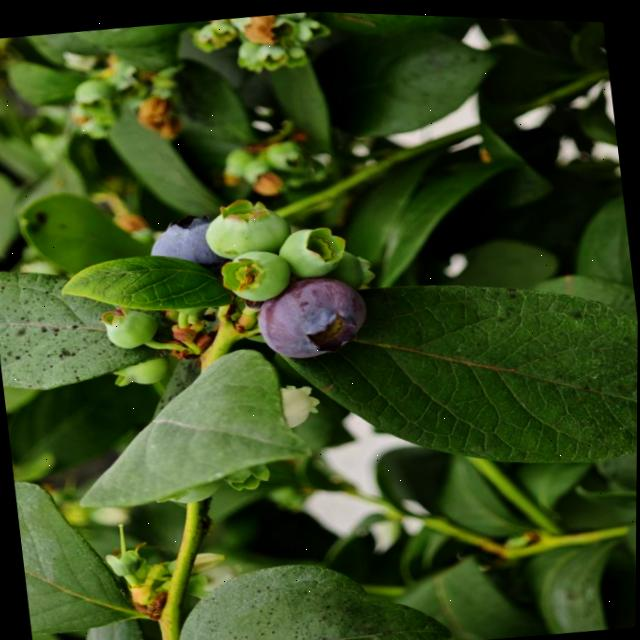RipeBlueBerry: (145, 207, 226, 271)
Semi-RipeBlueBerry: (252, 268, 375, 363)
UnripeBlueBerry: (201, 188, 294, 261)
